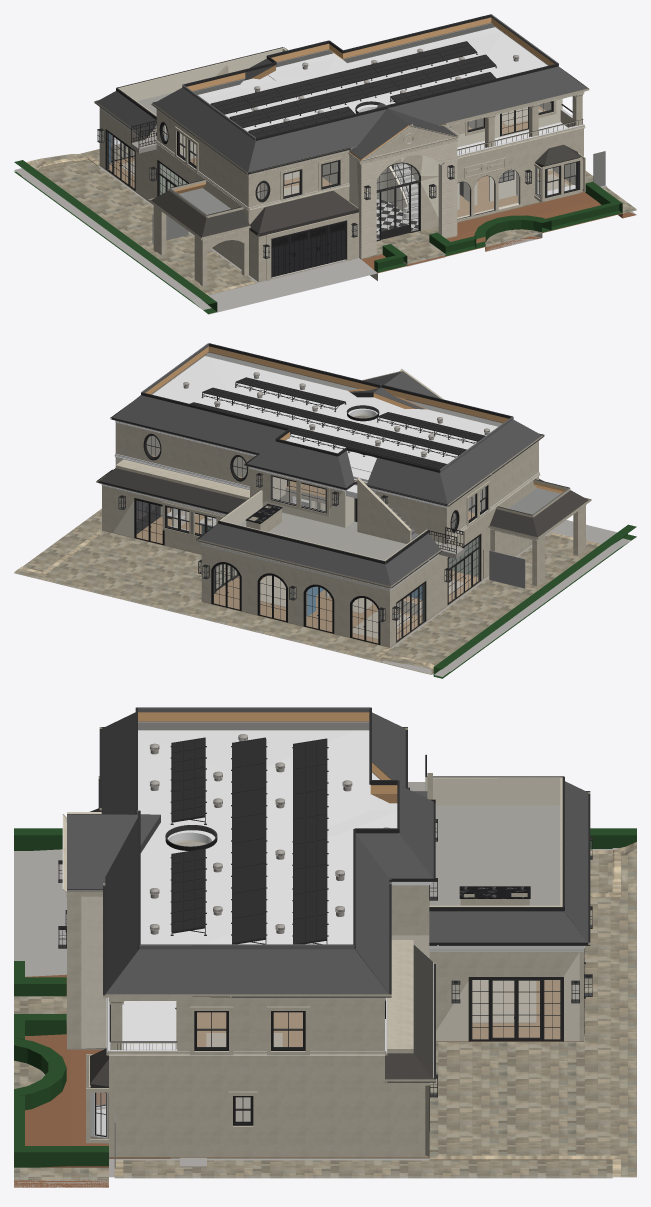
The model's file is exterior-house-f950a9a6d9f7.glb.
The picture shows the model from 3 angles, top to bottom: view 1: azimuth 30°, elevation 25°; view 2: azimuth 150°, elevation 25°; view 3: azimuth 270°, elevation 25°; orthographic projection. The views are drawn at different scales.
Parts seen in each view (by area): view 1: exterior-house-27d577fbd7f2ff4b, exterior-house-d56ee2a9d54b1fc2, exterior-house-8ae50a6395ceb8a4, exterior-house-e33d7b378dc851e2, exterior-house-0b9d5d1cd0b2c60f, exterior-house-7cf8e5cfa8b264af, exterior-house-25c3ff3929e46046, exterior-house-0cae3eb2f2d52fad, exterior-house-aee2d046b0172b1e, exterior-house-2f311b438f02a7c5, exterior-house-f9d31319fa3bf46f, exterior-house-a9e726e5451ff895 (+61 smaller); view 2: exterior-house-37d1b262fca80116, exterior-house-d56ee2a9d54b1fc2, exterior-house-27d577fbd7f2ff4b, exterior-house-969b861f9850351e, exterior-house-c91f911e25c8cae7, exterior-house-5febae1537653d02, exterior-house-3b0077416469e01b, exterior-house-3763e2fb8578d282, exterior-house-8ae50a6395ceb8a4, exterior-house-0cae3eb2f2d52fad, exterior-house-ded88bd99590d377, exterior-house-0b9d5d1cd0b2c60f (+50 smaller); view 3: exterior-house-37d1b262fca80116, exterior-house-d56ee2a9d54b1fc2, exterior-house-a75a0c9c223328ee, exterior-house-ded88bd99590d377, exterior-house-af97eba351c411ae, exterior-house-2c1fd33d433632d0, exterior-house-8ae50a6395ceb8a4, exterior-house-0b9d5d1cd0b2c60f, exterior-house-7cf8e5cfa8b264af, exterior-house-e706aa16b4547c37, exterior-house-adb6f49a6d2cbec3, exterior-house-3d5fbc3a2a5f9c05 (+51 smaller).
Boxes of the visible parts, x1=… form: exterior-house-27d577fbd7f2ff4b: x1=39, y1=159, x2=256, y2=294; exterior-house-d56ee2a9d54b1fc2: x1=203, y1=31, x2=547, y2=131; exterior-house-8ae50a6395ceb8a4: x1=14, y1=166, x2=607, y2=314; exterior-house-e33d7b378dc851e2: x1=388, y1=66, x2=586, y2=125; exterior-house-0b9d5d1cd0b2c60f: x1=229, y1=54, x2=496, y2=127; exterior-house-7cf8e5cfa8b264af: x1=210, y1=41, x2=477, y2=114; exterior-house-25c3ff3929e46046: x1=248, y1=109, x2=385, y2=172; exterior-house-0cae3eb2f2d52fad: x1=153, y1=87, x2=255, y2=172; exterior-house-aee2d046b0172b1e: x1=361, y1=192, x2=636, y2=273; exterior-house-2f311b438f02a7c5: x1=271, y1=220, x2=346, y2=277; exterior-house-f9d31319fa3bf46f: x1=369, y1=138, x2=449, y2=256; exterior-house-a9e726e5451ff895: x1=258, y1=190, x2=358, y2=236; exterior-house-37d1b262fca80116: x1=14, y1=530, x2=434, y2=674; exterior-house-d56ee2a9d54b1fc2: x1=152, y1=356, x2=497, y2=472; exterior-house-27d577fbd7f2ff4b: x1=384, y1=532, x2=600, y2=665; exterior-house-969b861f9850351e: x1=201, y1=546, x2=387, y2=646; exterior-house-c91f911e25c8cae7: x1=112, y1=395, x2=285, y2=453; exterior-house-5febae1537653d02: x1=199, y1=523, x2=390, y2=586; exterior-house-3b0077416469e01b: x1=102, y1=507, x2=474, y2=647; exterior-house-3763e2fb8578d282: x1=116, y1=422, x2=254, y2=486; exterior-house-8ae50a6395ceb8a4: x1=14, y1=520, x2=636, y2=676; exterior-house-0cae3eb2f2d52fad: x1=440, y1=419, x2=541, y2=504; exterior-house-ded88bd99590d377: x1=239, y1=512, x2=446, y2=560; exterior-house-0b9d5d1cd0b2c60f: x1=201, y1=387, x2=466, y2=457; exterior-house-37d1b262fca80116: x1=429, y1=842, x2=636, y2=1177; exterior-house-d56ee2a9d54b1fc2: x1=138, y1=730, x2=397, y2=944; exterior-house-a75a0c9c223328ee: x1=106, y1=949, x2=388, y2=994; exterior-house-ded88bd99590d377: x1=430, y1=805, x2=560, y2=905; exterior-house-af97eba351c411ae: x1=295, y1=1069, x2=425, y2=1156; exterior-house-2c1fd33d433632d0: x1=114, y1=1160, x2=612, y2=1178; exterior-house-8ae50a6395ceb8a4: x1=14, y1=848, x2=636, y2=1177; exterior-house-0b9d5d1cd0b2c60f: x1=231, y1=737, x2=267, y2=944; exterior-house-7cf8e5cfa8b264af: x1=292, y1=738, x2=328, y2=944; exterior-house-e706aa16b4547c37: x1=429, y1=952, x2=579, y2=1041; exterior-house-adb6f49a6d2cbec3: x1=177, y1=1001, x2=384, y2=1050; exterior-house-3d5fbc3a2a5f9c05: x1=468, y1=977, x2=563, y2=1041.
Bounding box in the file's own units: 28 × 8.45 × 22.
Materials: 84 (23 with a texture image).
